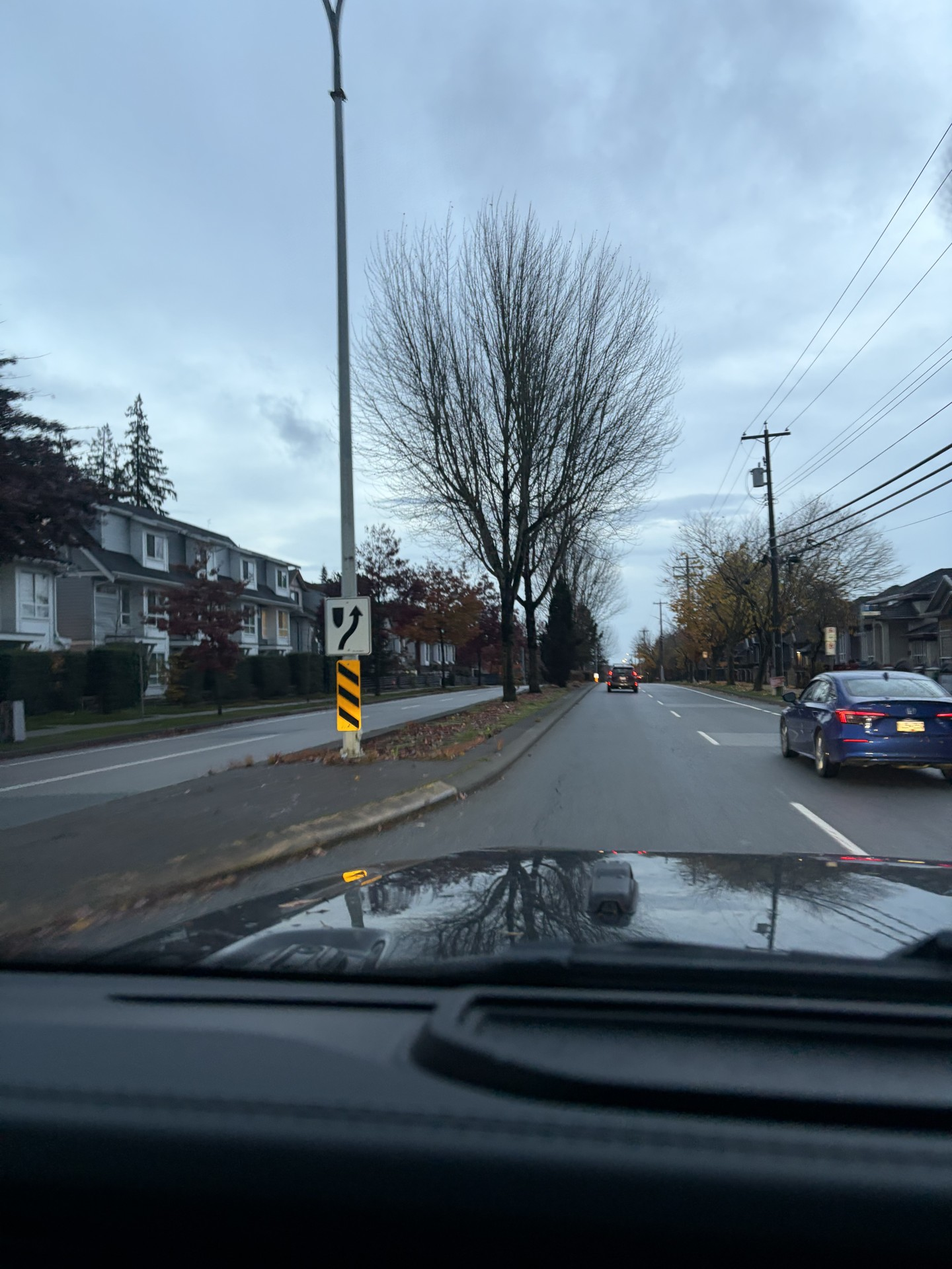keep_right: (301, 563, 421, 675)
